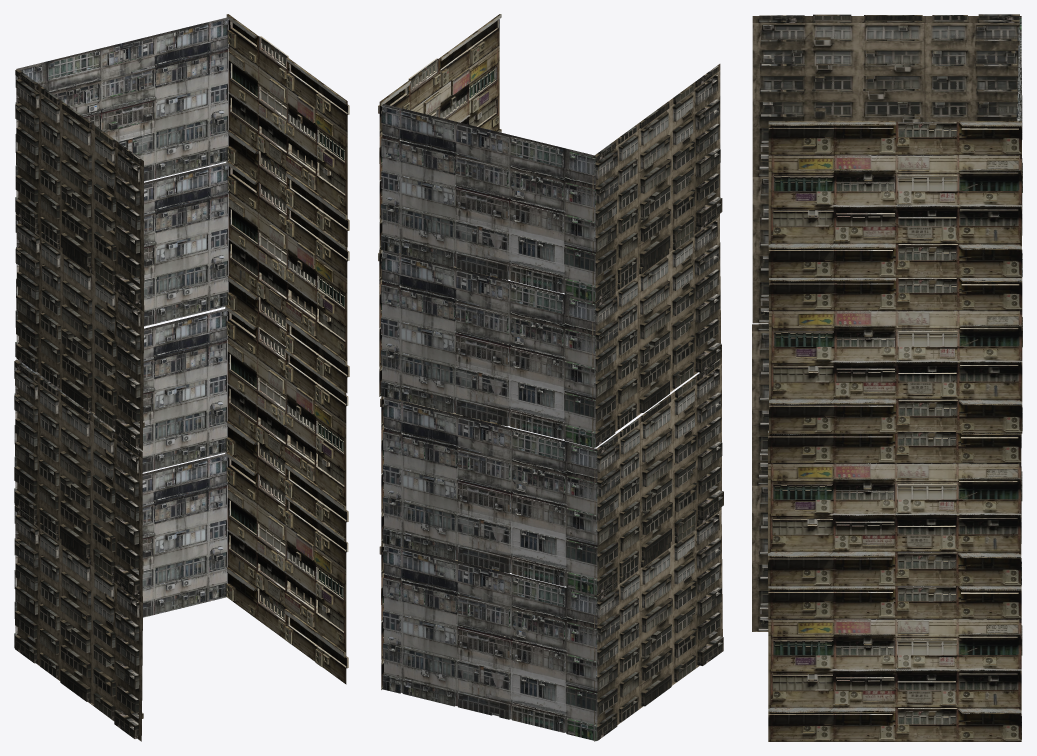
File: alley.glb
The picture shows the model from 3 angles, left to right: view 1: azimuth 30°, elevation 25°; view 2: azimuth 150°, elevation 25°; view 3: azimuth 270°, elevation 25°; orthographic projection. The views are drawn at different scales.
Parts seen in each view (by area): view 1: Material2 (×3); view 2: Material2 (×3); view 3: Material2 (×3).
Boxes of the visible parts, bbox=[...] form: Material2 (×3): bbox=[14, 14, 349, 741]; Material2 (×3): bbox=[378, 14, 723, 741]; Material2 (×3): bbox=[752, 14, 1022, 741].
Bounding box in the file's own units: 246 × 620 × 245.
4 materials, 3 textured.
